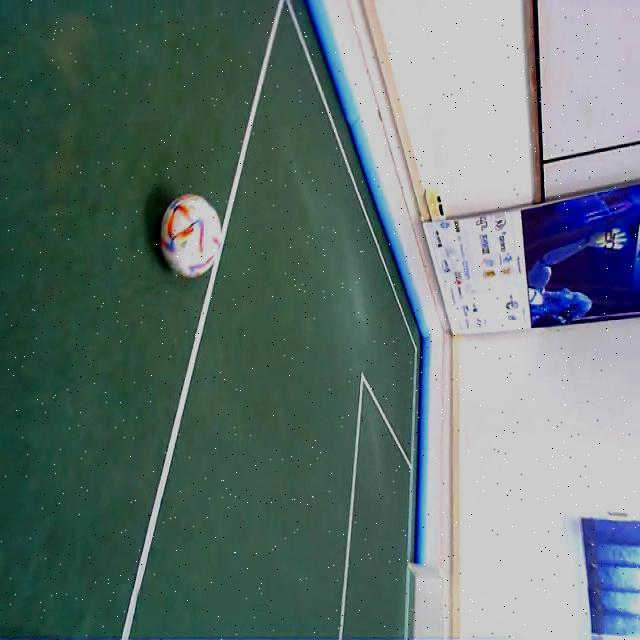ball: (159, 188, 224, 280)
